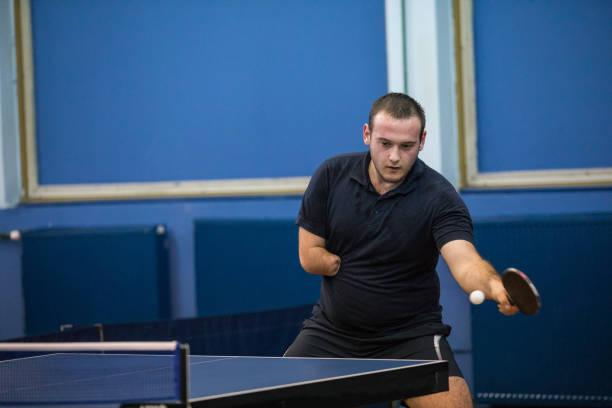ball_pingpong: (470, 289, 485, 304)
